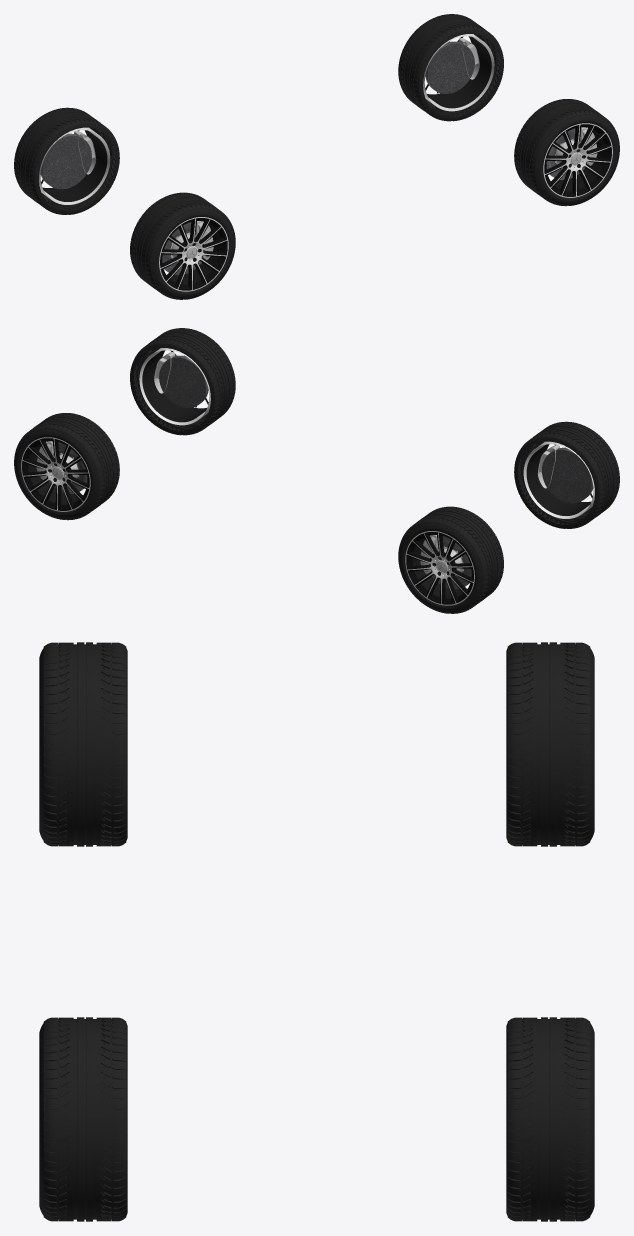
File: 10177_Mercedes_OE_001.glb
3 views of the same model, one above another, from view 1: azimuth 30°, elevation 25°; view 2: azimuth 150°, elevation 25°; view 3: azimuth 270°, elevation 25° (orthographic). The views are drawn at different scales.
Visible parts, largest first — view 1: tyre_ha_l, tyre_va_l, tyre_va_r, tyre_ha_r, black_m_06, black_m_08, silver_04, silver_09, plastic_18, plastic_10, silver_11, silver_16 (+6 smaller); view 2: tyre_ha_r, tyre_va_r, tyre_va_l, tyre_ha_l, black_m_04, black_m_07, silver_19, silver_14, plastic_26, plastic_32, silver_06_pivot, silver_01 (+6 smaller); view 3: tyre_ha_l, tyre_ha_r, tyre_va_l, tyre_va_r.
Part boxes in pixels (<box>): tyre_ha_l: <box>514,99,619,206</box>; tyre_va_l: <box>130,192,235,299</box>; tyre_va_r: <box>14,107,119,214</box>; tyre_ha_r: <box>398,14,503,121</box>; black_m_06: <box>544,124,611,196</box>; black_m_08: <box>160,218,227,290</box>; silver_04: <box>40,133,91,189</box>; silver_09: <box>425,41,474,93</box>; plastic_18: <box>427,36,491,108</box>; plastic_10: <box>42,130,107,201</box>; silver_11: <box>543,123,612,197</box>; silver_16: <box>159,217,228,291</box>; tyre_ha_r: <box>14,413,119,520</box>; tyre_va_r: <box>398,506,503,613</box>; tyre_va_l: <box>514,421,619,528</box>; tyre_ha_l: <box>130,328,235,435</box>; black_m_04: <box>22,438,89,510</box>; black_m_07: <box>406,532,473,604</box>; silver_19: <box>542,447,593,503</box>; silver_14: <box>159,355,208,407</box>; plastic_26: <box>142,350,206,422</box>; plastic_32: <box>526,444,591,515</box>; silver_06_pivot: <box>21,437,90,511</box>; silver_01: <box>405,531,474,605</box>; tyre_ha_l: <box>39,1017,127,1221</box>; tyre_ha_r: <box>506,1017,594,1221</box>; tyre_va_l: <box>39,642,127,846</box>; tyre_va_r: <box>506,642,594,846</box>.
Bounding box in the file's own units: 3.55 × 0.6648 × 1.81.
Materials: 10 (1 with a texture image).
